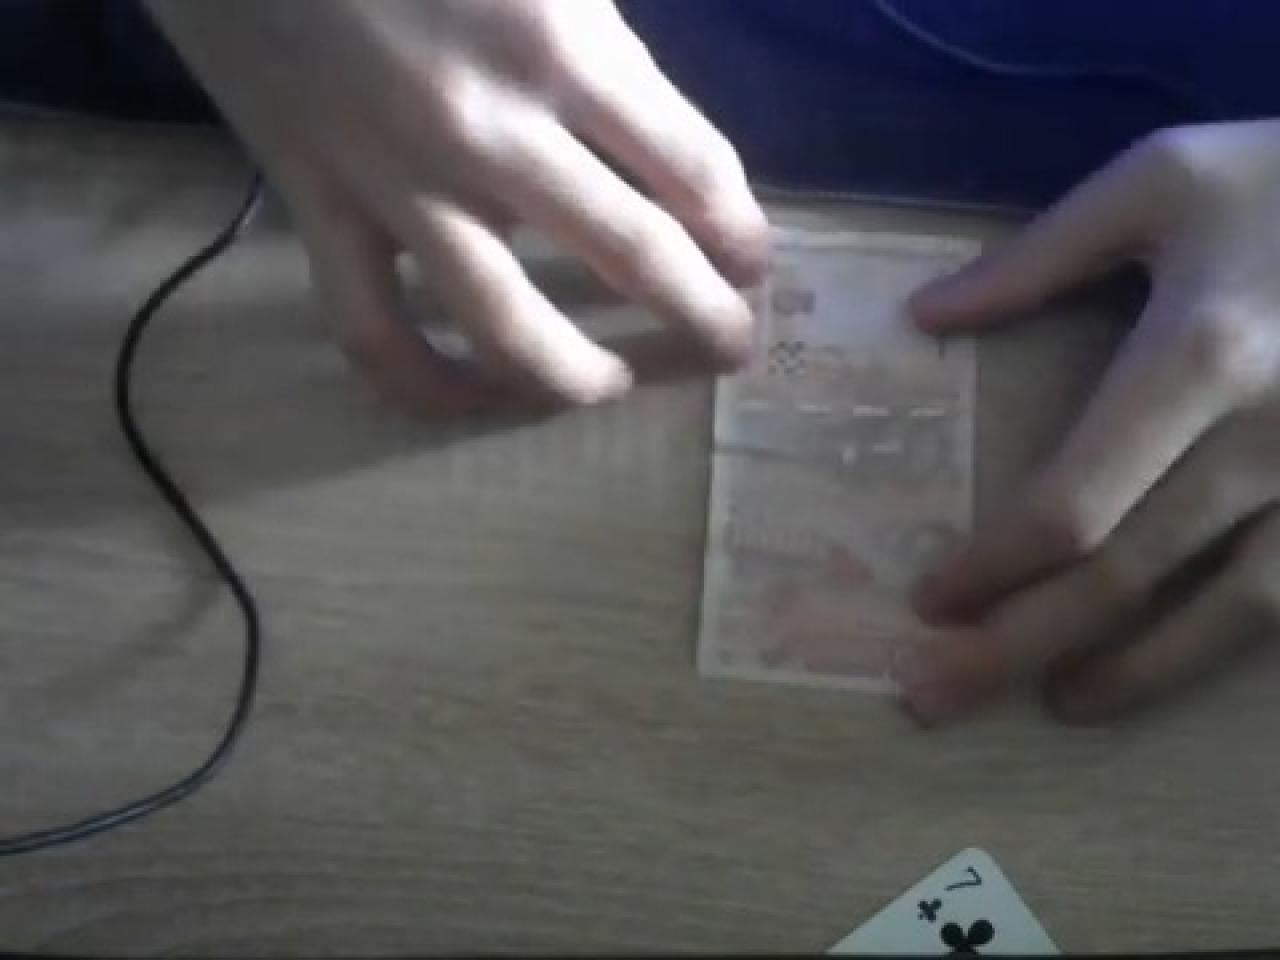5leva: (688, 184, 1189, 731)
